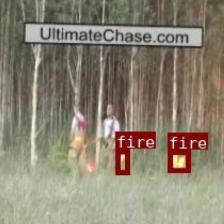fire: (168, 149, 190, 172), (115, 148, 128, 174)
